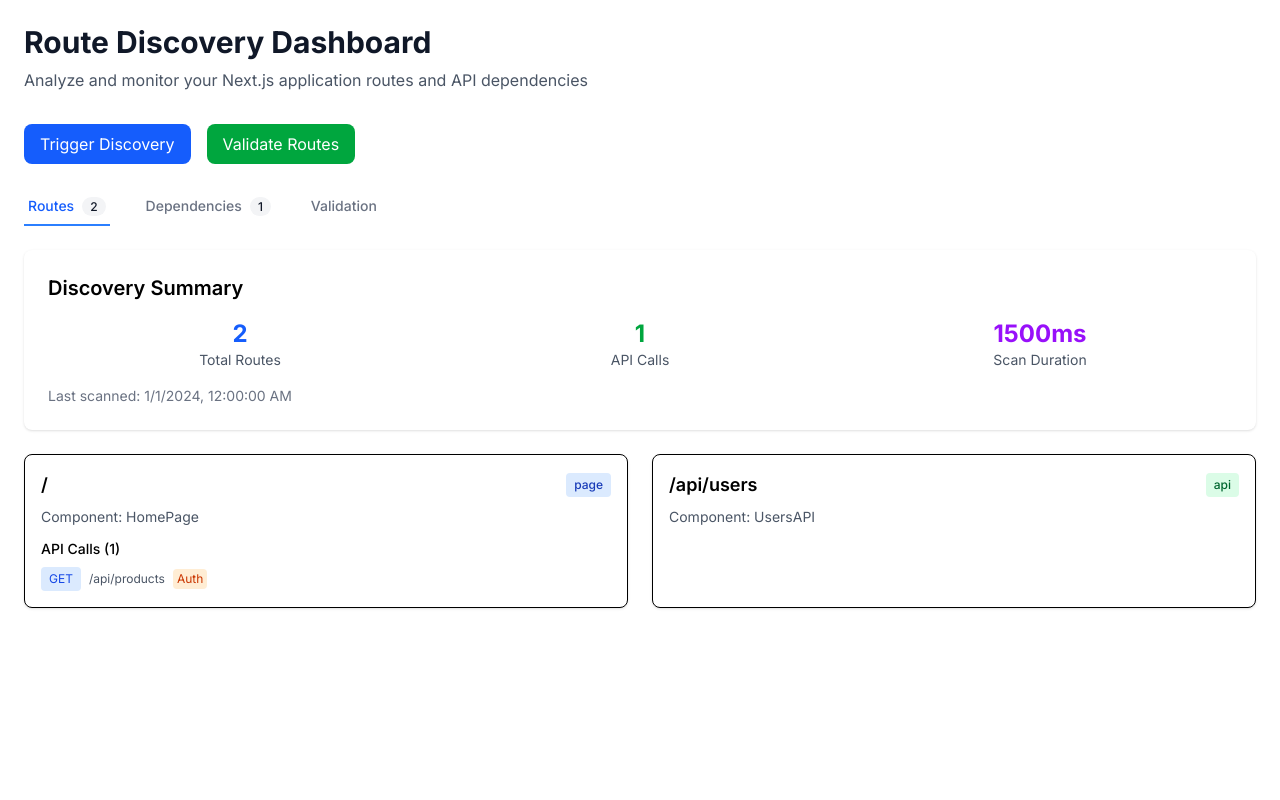
Scenario: RouteDiscoveryDashboard › switches between tabs correctly
Expected: the heading "/" is shown, [41,471,48,499]
Note: Switch to dependencies tab
Click the button "Dependencies1": (208, 207) [142,188,275,226]
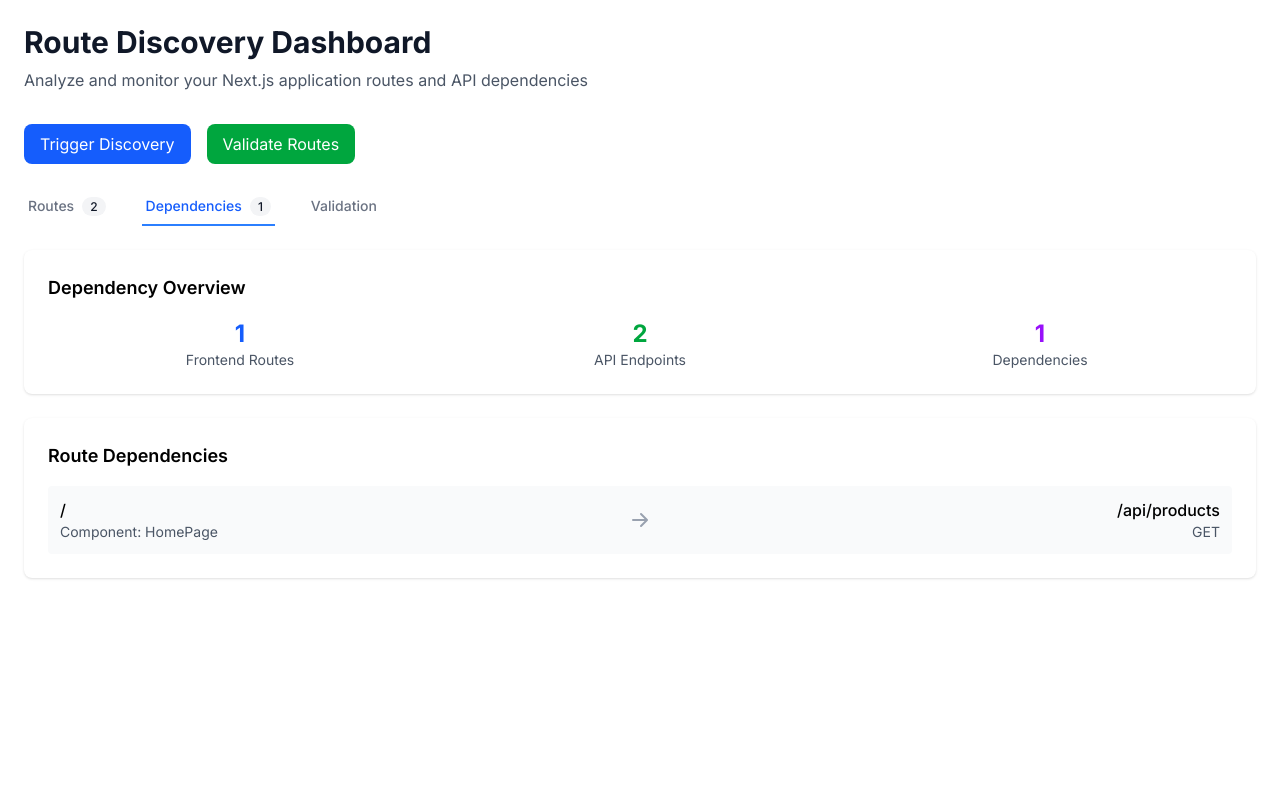
Expected: the heading "Dependency Overview" is shown, [48,277,246,298]
Expected: the text "Frontend Routes" is shown, [186,351,294,368]
Expected: the text "API Endpoints" is shown, [594,351,686,368]
